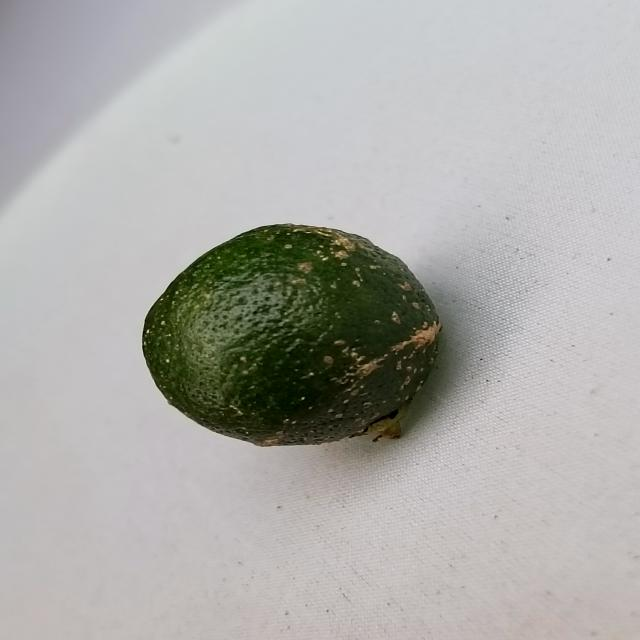scab: (130, 224, 447, 458)
